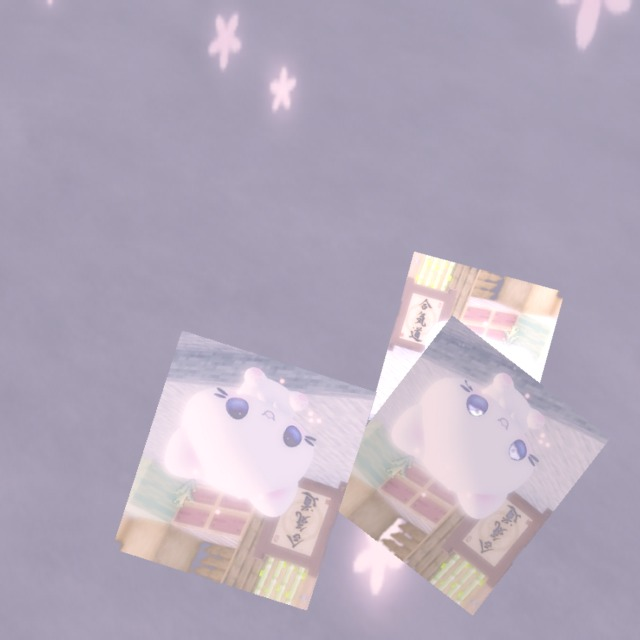urso_branco: (314, 315, 611, 616), (112, 330, 377, 611), (368, 251, 565, 461)
